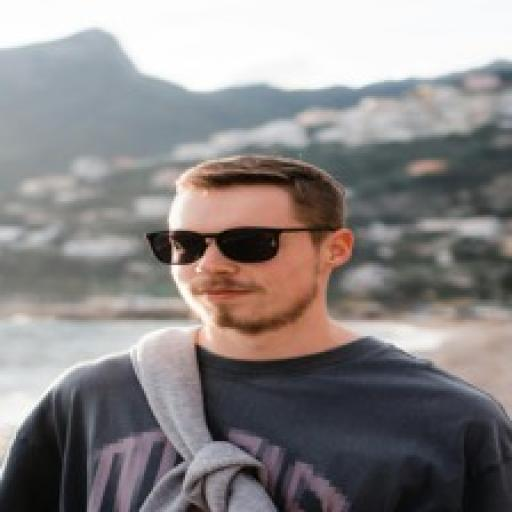human: (7, 153, 512, 512)
